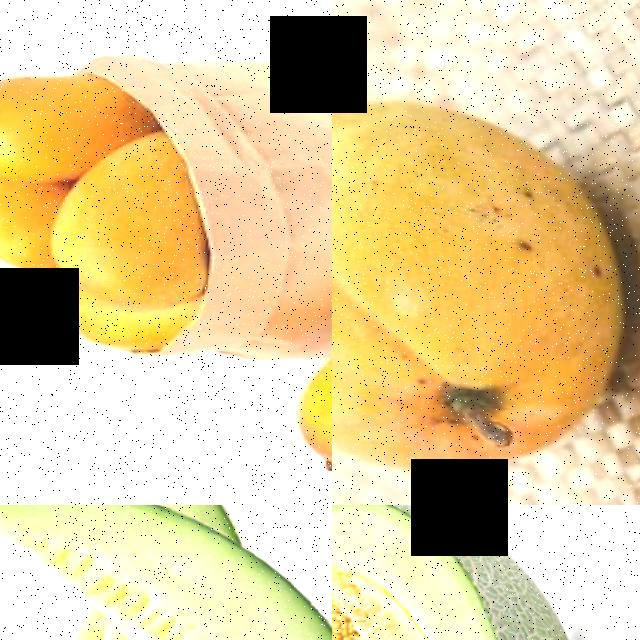mango: (332, 71, 640, 491), (54, 163, 210, 305), (0, 59, 116, 186), (295, 285, 332, 477)
melon: (0, 505, 332, 640), (332, 505, 593, 640)
